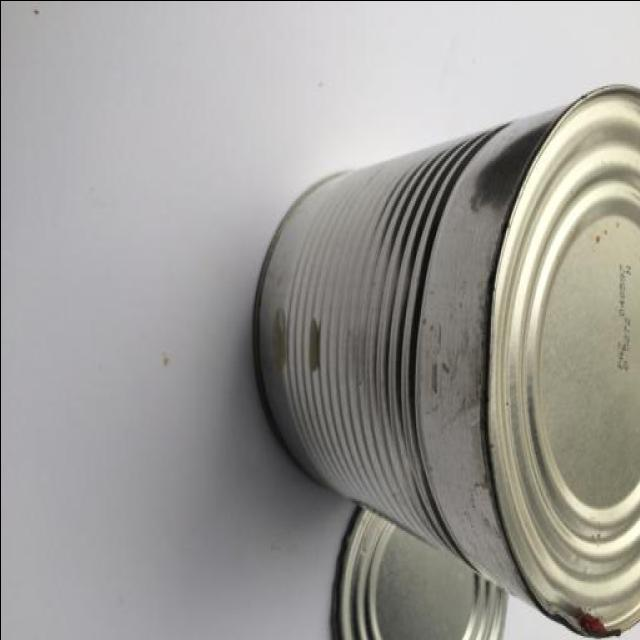non-organik: (231, 87, 640, 640)
